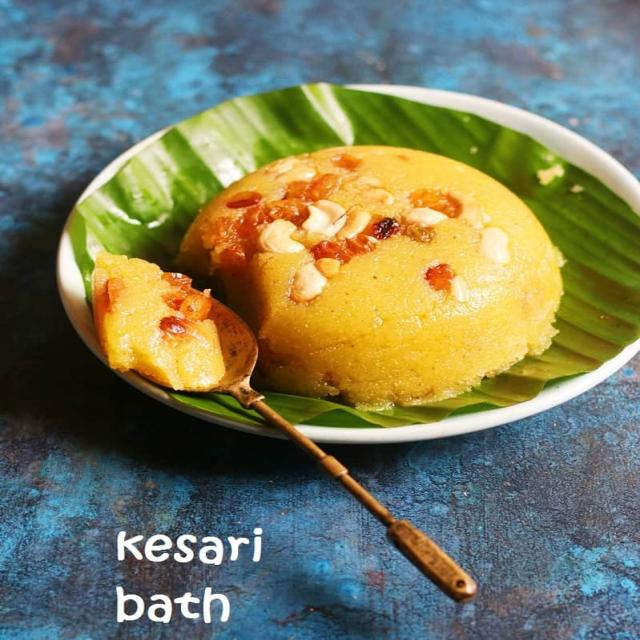kesari bath: (77, 136, 588, 419)
